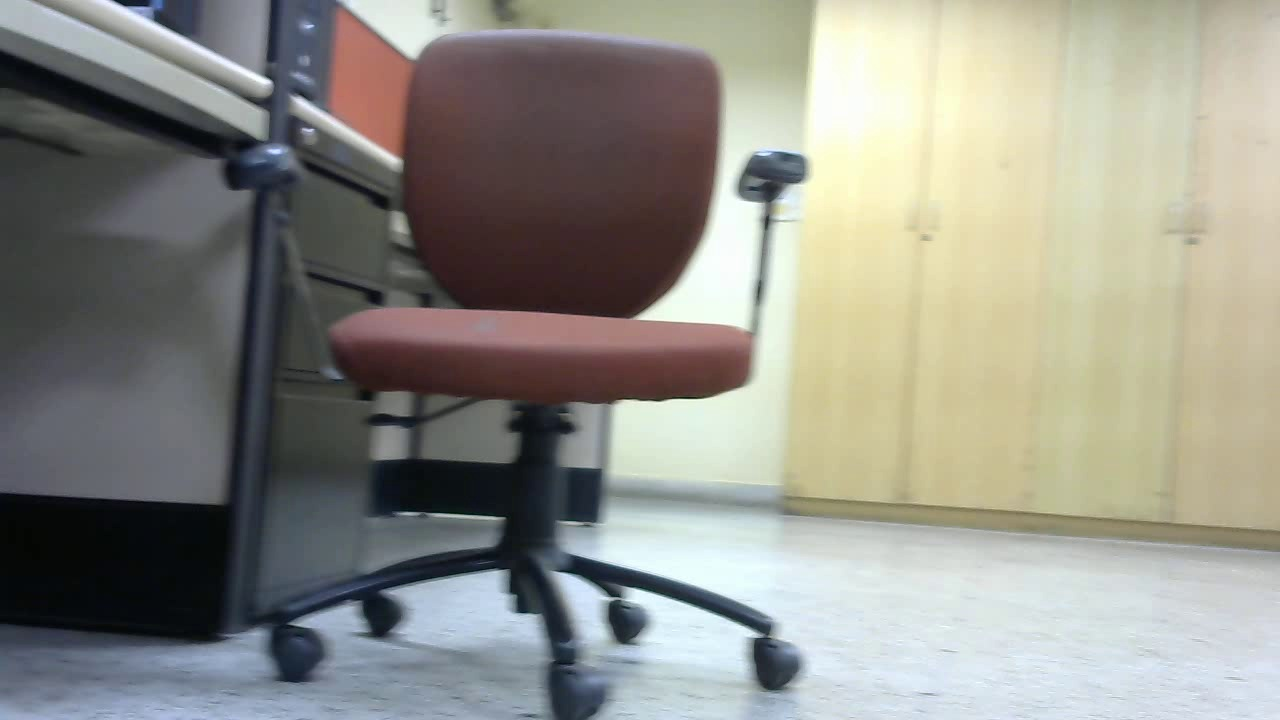chair: (605, 218, 854, 577), (243, 189, 417, 525)
